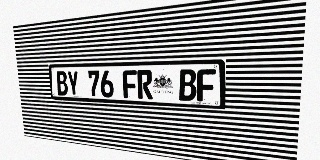6: (100, 70, 114, 98)
7: (87, 71, 101, 97)
B: (179, 69, 196, 101), (56, 71, 68, 96)
F: (197, 69, 216, 102), (122, 70, 137, 99)
R: (137, 70, 153, 99)
Y: (67, 71, 80, 96)
